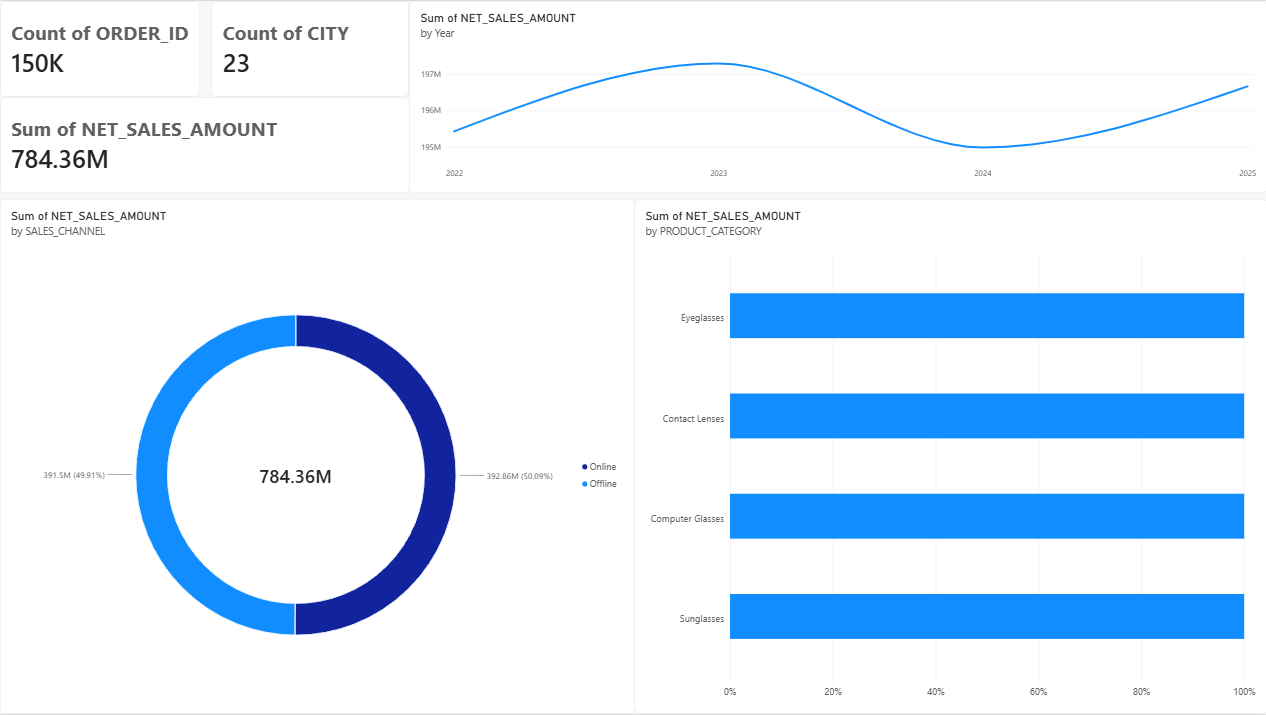

The dashboard page shown, as its layout file describes it:
{"tool":"powerbi","page":{"name":"Page 1","canvas":[1920,1080],"ordinal":0},"visuals":[{"type":"cardVisual","fields":{"Data":["CountNonNull(realtime_telemetry_setup_2026-10-04-2142.ORDER_ID)"]},"box":[0,0,302.1,145.4],"z":0},{"type":"cardVisual","fields":{"Data":["Count(realtime_telemetry_setup_2026-10-04-2142.CITY)"]},"box":[320.3,0,299.8,145.4],"z":1000},{"type":"cardVisual","fields":{"Data":["Sum(realtime_telemetry_setup_2026-10-04-2142.NET_SALES_AMOUNT)"]},"box":[0,145.4,620.1,145.4],"z":2000},{"type":"donutChart","fields":{"Category":["realtime_telemetry_setup_2026-10-04-2142.SALES_CHANNEL"],"Y":["Sum(realtime_telemetry_setup_2026-10-04-2142.NET_SALES_AMOUNT)"]},"box":[0,299.8,960.8,779.1],"z":3000},{"type":"hundredPercentStackedBarChart","fields":{"Category":["realtime_telemetry_setup_2026-10-04-2142.PRODUCT_CATEGORY"],"Y":["Sum(realtime_telemetry_setup_2026-10-04-2142.NET_SALES_AMOUNT)"]},"box":[960.8,299.8,958.5,779.1],"z":4000},{"type":"lineChart","fields":{"Category":["realtime_telemetry_setup_2026-10-04-2142.ORDER_DATE.Variation.Date Hierarchy.Year","realtime_telemetry_setup_2026-10-04-2142.ORDER_DATE.Variation.Date Hierarchy.Quarter","realtime_telemetry_setup_2026-10-04-2142.ORDER_DATE.Variation.Date Hierarchy.Month","realtime_telemetry_setup_2026-10-04-2142.ORDER_DATE.Variation.Date Hierarchy.Day"],"Y":["Sum(realtime_telemetry_setup_2026-10-04-2142.NET_SALES_AMOUNT)"]},"box":[620.1,0,1299.2,290.7],"z":4001}]}

Visuals, with their boxes in screenshot pixels (x1, y1, x2, y2), scaled from the page's 1920x1080 canvas onto the 1266x715 screenshot:
cardVisual - CountNonNull(realtime_telemetry_setup_2026-10-04-2142.ORDER_ID): {"left": 0, "top": 0, "right": 199, "bottom": 96}
cardVisual - Count(realtime_telemetry_setup_2026-10-04-2142.CITY): {"left": 211, "top": 0, "right": 409, "bottom": 96}
cardVisual - Sum(realtime_telemetry_setup_2026-10-04-2142.NET_SALES_AMOUNT): {"left": 0, "top": 96, "right": 409, "bottom": 193}
donutChart - realtime_telemetry_setup_2026-10-04-2142.SALES_CHANNEL x Sum(realtime_telemetry_setup_2026-10-04-2142.NET_SALES_AMOUNT): {"left": 0, "top": 198, "right": 634, "bottom": 714}
hundredPercentStackedBarChart - realtime_telemetry_setup_2026-10-04-2142.PRODUCT_CATEGORY x Sum(realtime_telemetry_setup_2026-10-04-2142.NET_SALES_AMOUNT): {"left": 634, "top": 198, "right": 1265, "bottom": 714}
lineChart - realtime_telemetry_setup_2026-10-04-2142.ORDER_DATE.Variation.Date Hierarchy.Year x realtime_telemetry_setup_2026-10-04-2142.ORDER_DATE.Variation.Date Hierarchy.Quarter: {"left": 409, "top": 0, "right": 1265, "bottom": 192}
